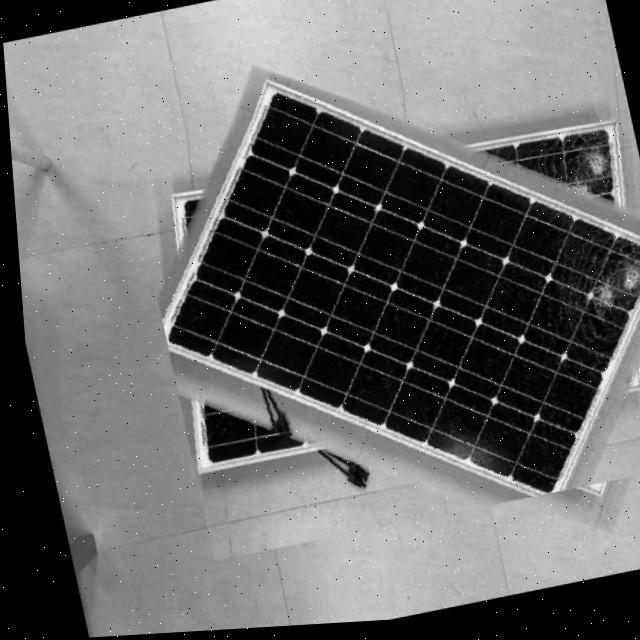Structural Damage: (517, 140, 640, 330)
